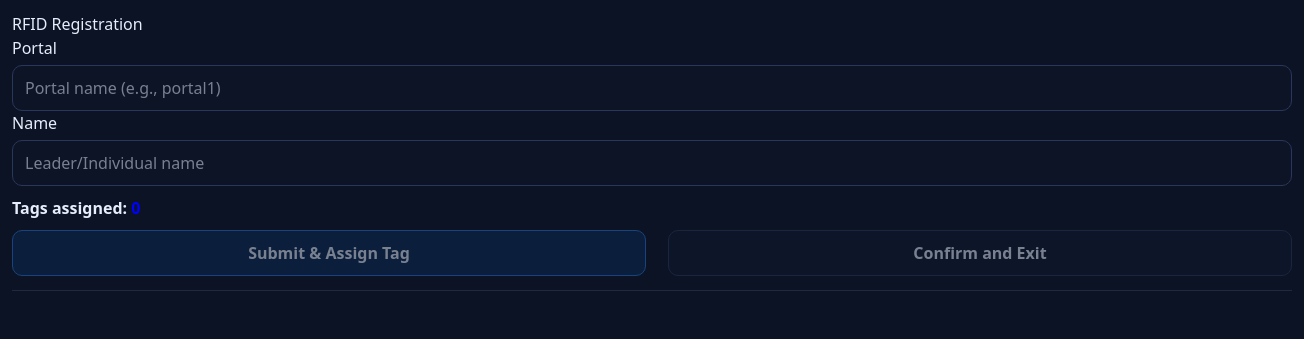
Scenario: RegistrationForm Component - Comprehensive Tests › Registration and Linking Process › should handle registration failure
Type "John Doe" into the field with placeholder "Leader/Individual name" at x=652, y=163, box top-left (12, 140), bottom-right (1292, 186)
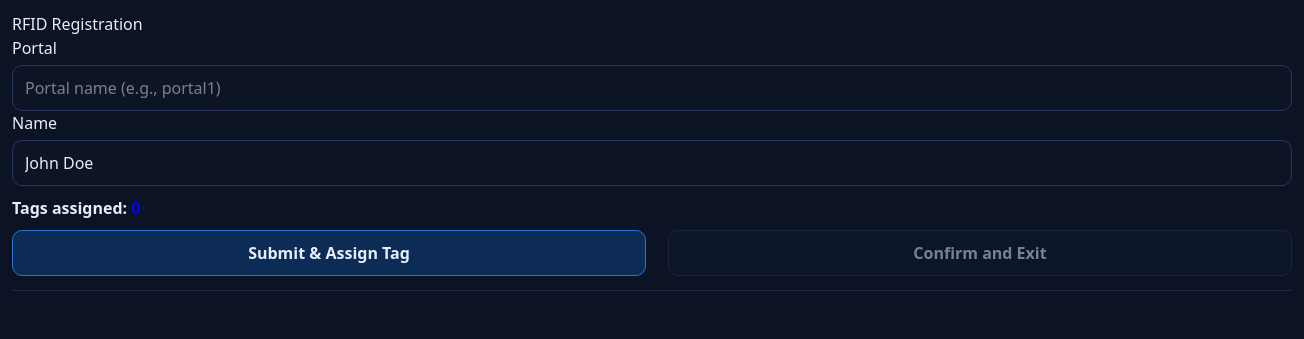
Click the button "Submit & Assign Tag" at x=329, y=253, box top-left (12, 230), bottom-right (646, 276)
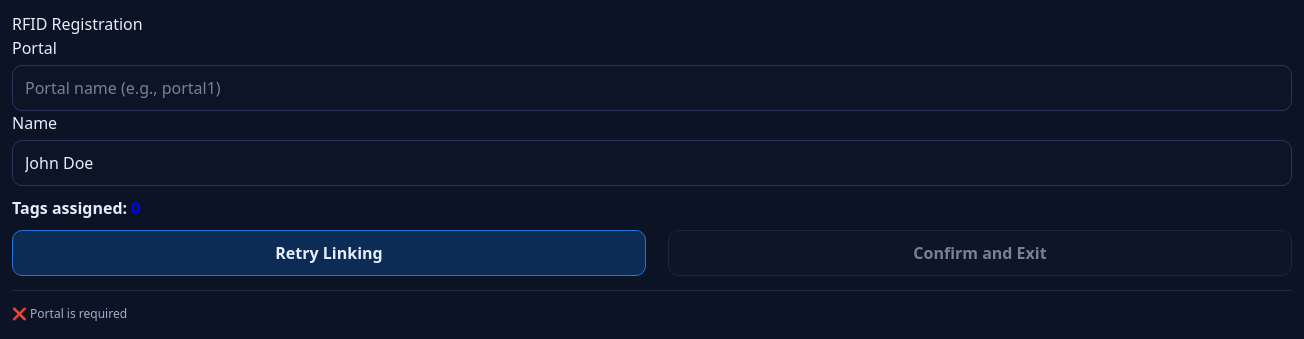
Expected: the text "❌ Portal is required" is shown, top-left (12, 305), bottom-right (127, 322)
